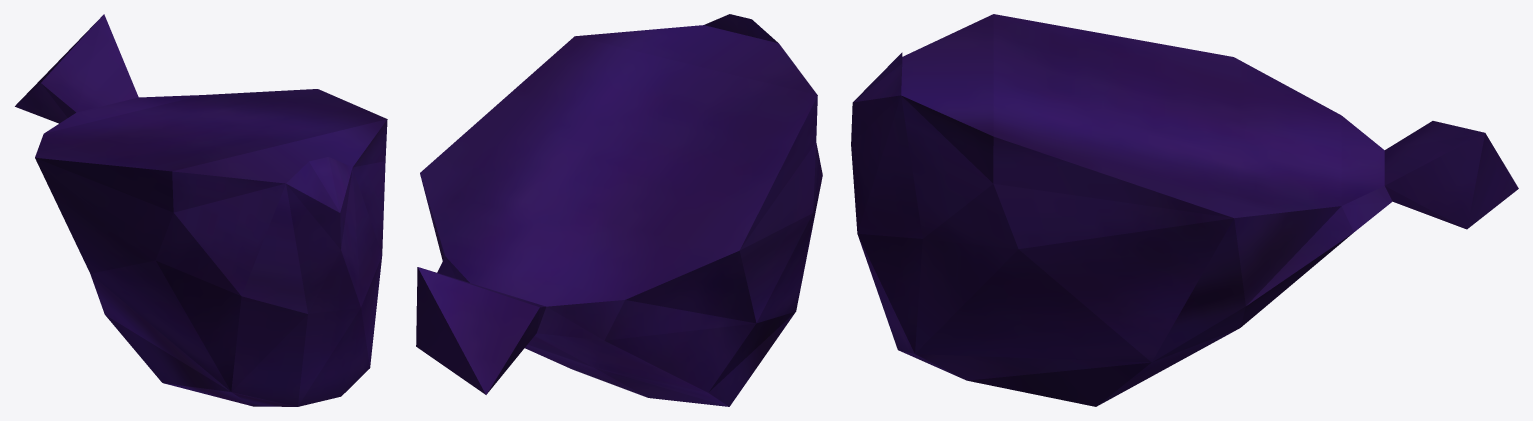
The model's file is CHUSTA_FIOL.glb.
The picture shows the model from 3 angles, left to right: view 1: azimuth 30°, elevation 25°; view 2: azimuth 150°, elevation 25°; view 3: azimuth 270°, elevation 25°; orthographic projection. The views are drawn at different scales.
Visible parts, largest first — view 1: CHUSTA_FIOL; view 2: CHUSTA_FIOL; view 3: CHUSTA_FIOL.
Part boxes in pixels (box(x1,y1,x2,y2)): CHUSTA_FIOL: box(15, 14, 387, 406); CHUSTA_FIOL: box(416, 14, 822, 406); CHUSTA_FIOL: box(851, 14, 1518, 406).
Size of the model in its own units: 0.1928 by 0.18 by 0.3386.
1 material, 1 textured.
